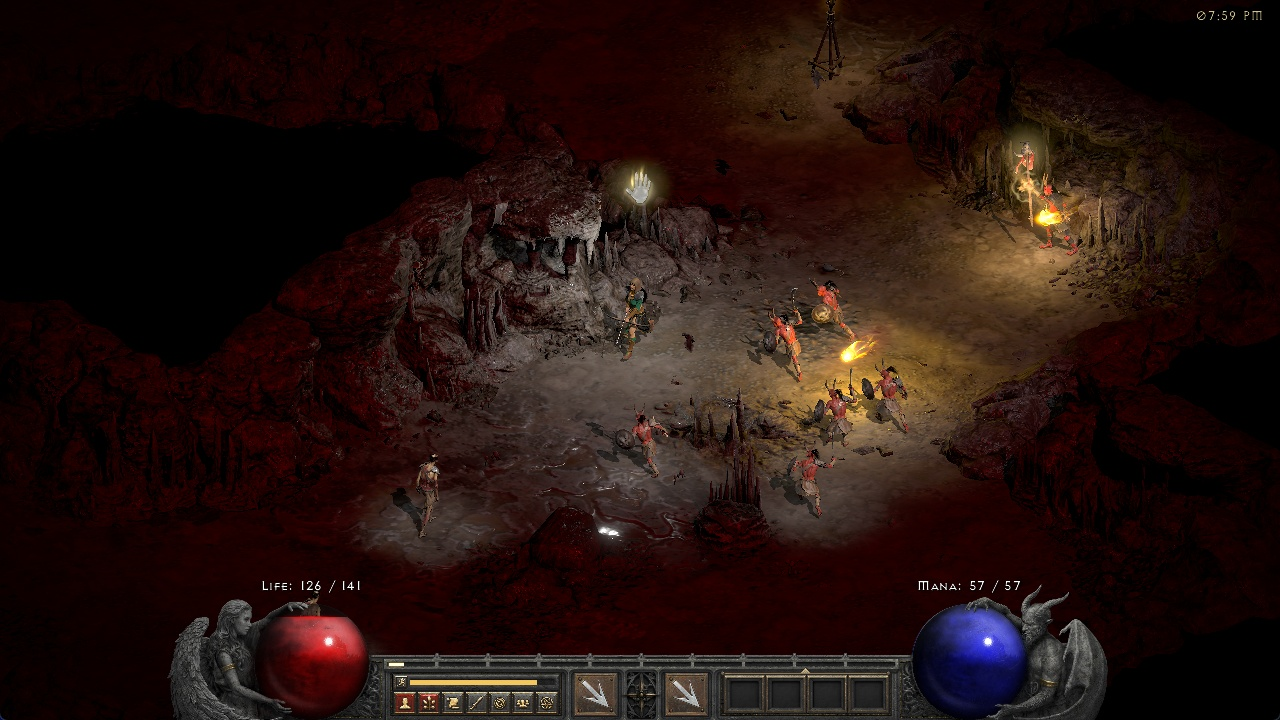fallen: (759, 304, 805, 379), (783, 448, 832, 518), (618, 405, 666, 475), (859, 365, 909, 432), (814, 275, 856, 342), (815, 381, 852, 443)
